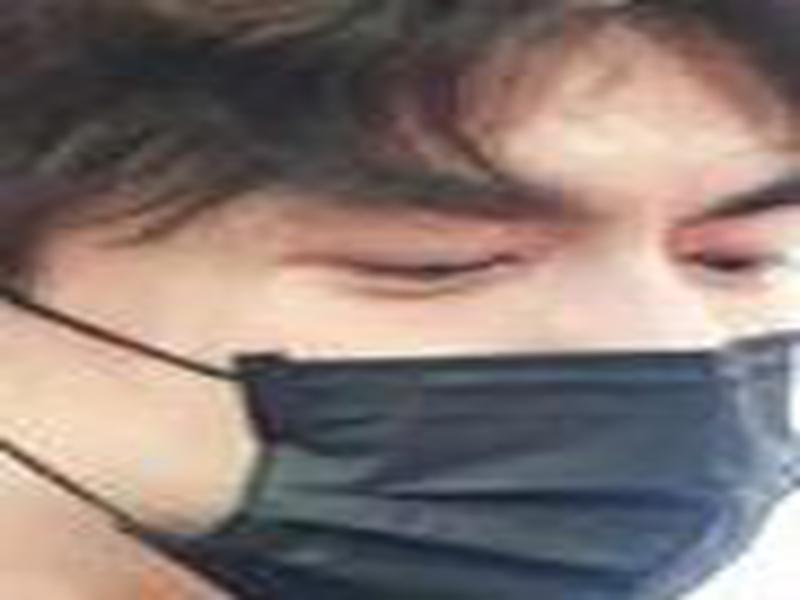with_mask: (1, 5, 796, 600)
